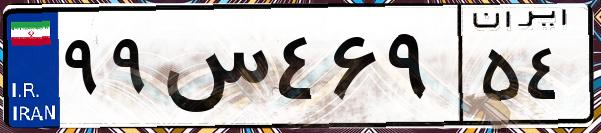4: (270, 28, 330, 110), (525, 38, 570, 115)
5: (475, 38, 525, 113)
6: (330, 28, 385, 110)
9: (385, 28, 445, 110), (57, 26, 110, 100), (110, 28, 158, 98)
س: (158, 20, 270, 120)
